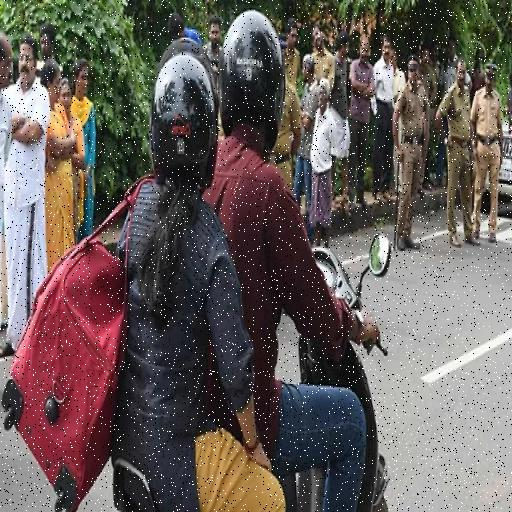Helmet: (151, 39, 217, 188), (219, 11, 284, 149)
Motor: (300, 336, 388, 511)
